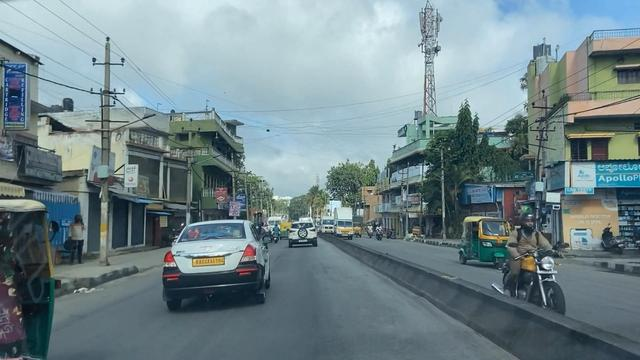LMV: (164, 221, 269, 307), (290, 223, 317, 247)
